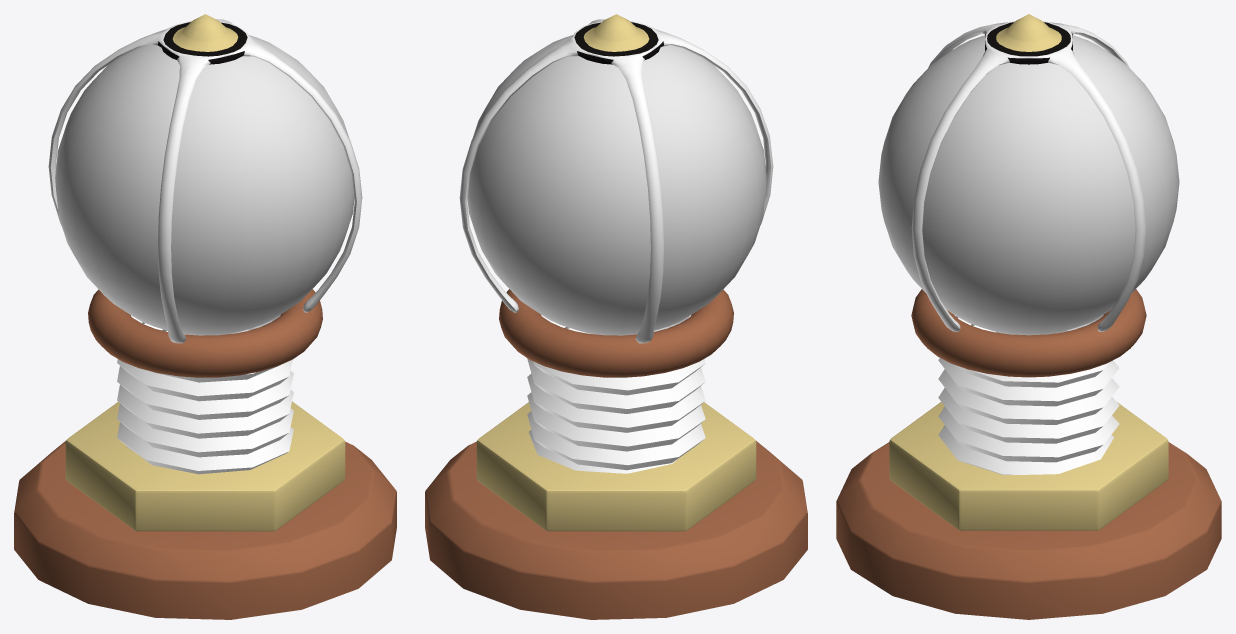
Rendered from Detector.fbx.
3 renders of one model, left to right at view 1: azimuth 30°, elevation 25°; view 2: azimuth 150°, elevation 25°; view 3: azimuth 270°, elevation 25°, orthographic.
Visible parts, largest first — view 1: Detector, DetectorBase, screw; view 2: Detector, DetectorBase, screw; view 3: Detector, DetectorBase, screw.
Part boxes in pixels (x1,y1,x2,y2): Detector: [48, 14, 362, 377]; DetectorBase: [14, 401, 396, 619]; screw: [117, 315, 293, 474]; Detector: [459, 14, 773, 377]; DetectorBase: [425, 402, 807, 619]; screw: [527, 315, 705, 473]; Detector: [878, 14, 1179, 377]; DetectorBase: [836, 402, 1221, 619]; screw: [938, 315, 1119, 474].
Bounding box in the file's own units: 0.0516 × 0.0774 × 0.0516.
